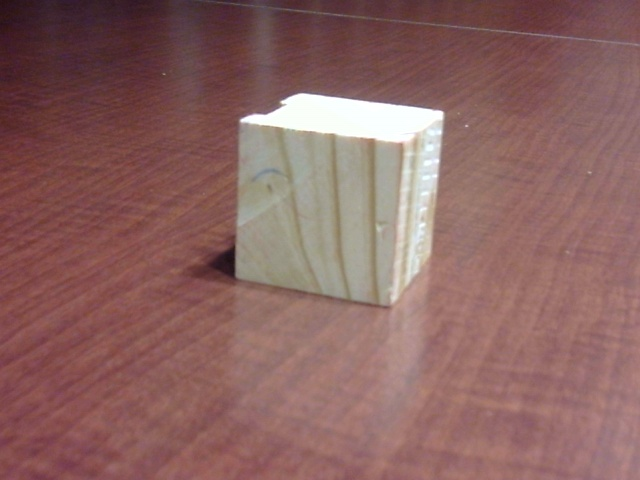NormalBlock: (235, 113, 401, 307)
